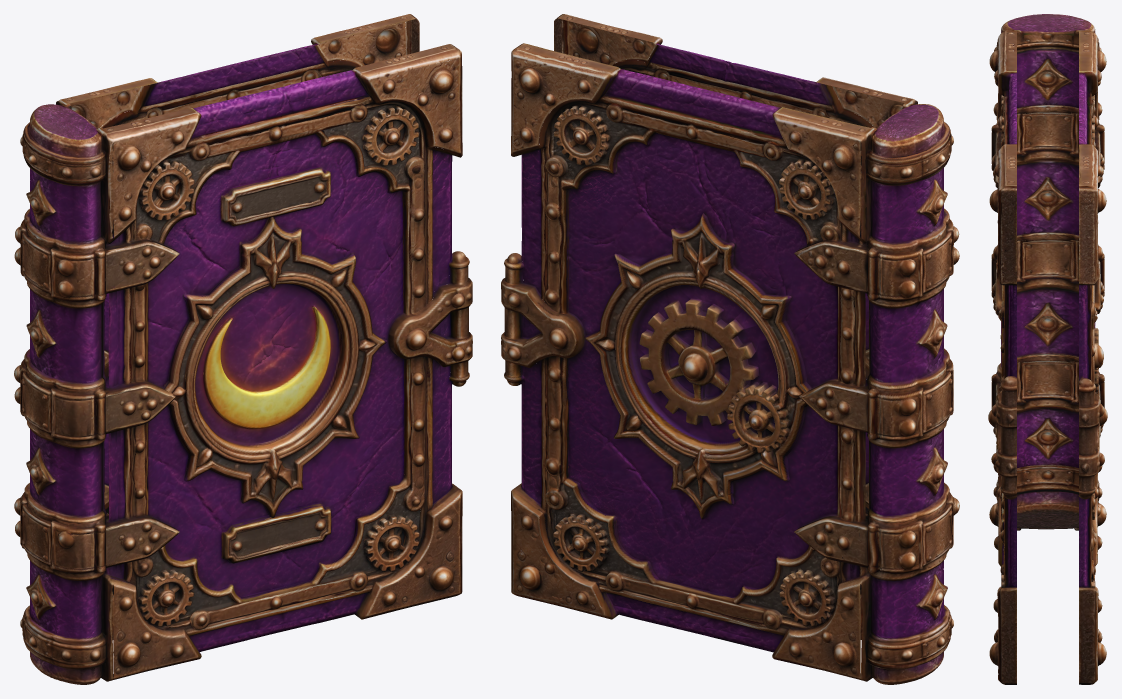
File: builders2.glb
3 renders of one model, left to right at view 1: azimuth 30°, elevation 25°; view 2: azimuth 150°, elevation 25°; view 3: azimuth 270°, elevation 25°, orthographic. The views are drawn at different scales.
Visible parts, largest first — view 1: F_leather, S_spine, F_body, F_trim, F_medal, F_disc, B_body, F_moon, K_clasp, B_trim, F_plateB, F_plateT (+4 smaller); view 2: B_leather, S_spine, B_body, B_trim, B_medal, W_big, F_body, F_trim, W_small, H_1, H_0, H_3 (+1 smaller); view 3: S_spine, B_body, F_body, B_trim, K_clasp, F_trim, F_medal, B_medal.
Boxes of the visible parts, bbox=[...] form: F_leather: bbox=[148, 134, 404, 597]; S_spine: bbox=[14, 99, 114, 684]; F_body: bbox=[103, 44, 462, 680]; F_trim: bbox=[108, 58, 461, 677]; F_medal: bbox=[164, 217, 387, 517]; F_disc: bbox=[195, 283, 342, 446]; B_body: bbox=[63, 14, 419, 639]; F_moon: bbox=[203, 305, 330, 429]; K_clasp: bbox=[388, 251, 472, 386]; B_trim: bbox=[69, 22, 405, 624]; F_plateB: bbox=[223, 503, 331, 563]; F_plateT: bbox=[223, 167, 330, 226]; B_leather: bbox=[568, 132, 837, 597]; S_spine: bbox=[859, 98, 959, 684]; B_body: bbox=[511, 43, 870, 680]; B_trim: bbox=[501, 57, 865, 678]; B_medal: bbox=[584, 213, 810, 519]; W_big: bbox=[639, 299, 758, 425]; F_body: bbox=[554, 14, 910, 639]; F_trim: bbox=[567, 21, 904, 624]; W_small: bbox=[727, 382, 791, 453]; H_1: bbox=[553, 105, 609, 165]; H_0: bbox=[779, 160, 834, 220]; H_3: bbox=[553, 514, 608, 571]; S_spine: bbox=[991, 14, 1104, 530]; B_body: bbox=[1079, 31, 1098, 684]; F_body: bbox=[997, 31, 1016, 684]; B_trim: bbox=[1079, 42, 1107, 665]; K_clasp: bbox=[988, 376, 1016, 499]; F_trim: bbox=[989, 49, 1001, 672]; F_medal: bbox=[996, 259, 1004, 443]; B_medal: bbox=[1091, 263, 1099, 393].
Size of the model in its own units: 0.7912 by 0.9802 by 0.2125.
1 material, 1 textured.
